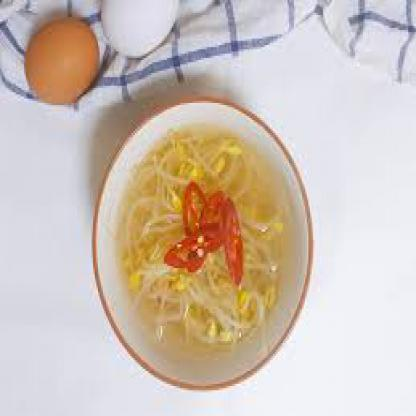bean sprout soup: (118, 131, 284, 356)
